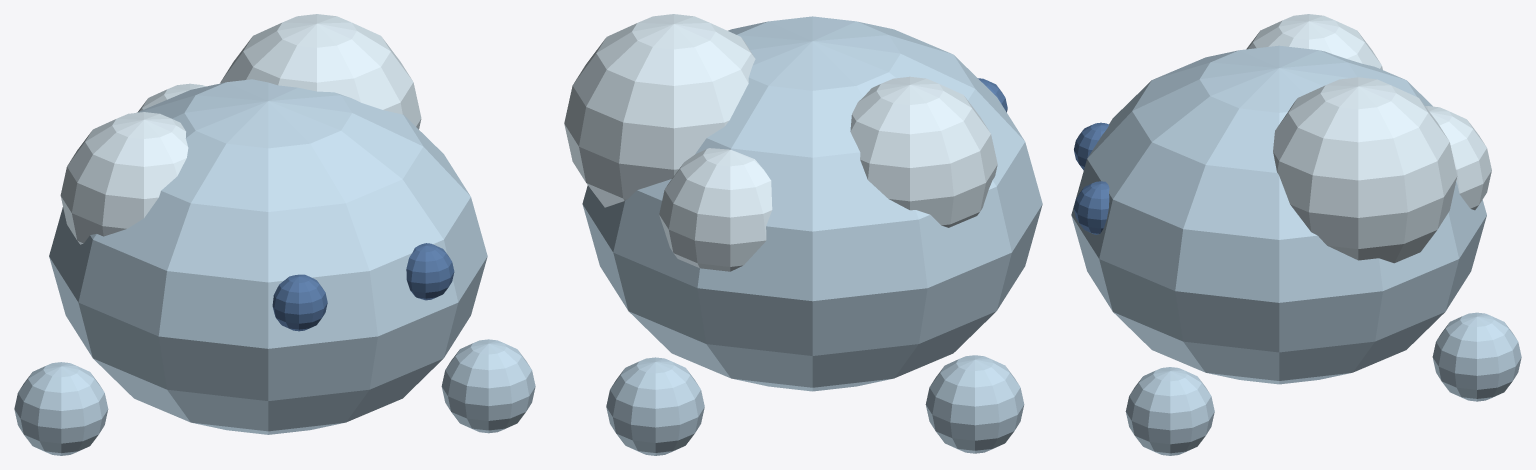
The model's file is creature_blob_ice.glb.
The picture shows the model from 3 angles, left to right: view 1: azimuth 30°, elevation 25°; view 2: azimuth 150°, elevation 25°; view 3: azimuth 270°, elevation 25°; orthographic projection. The views are drawn at different scales.
Parts seen in each view (by area): view 1: creature_blob_ice; view 2: creature_blob_ice; view 3: creature_blob_ice.
Boxes of the visible parts, bbox=[...] form: creature_blob_ice: bbox=[14, 14, 535, 455]; creature_blob_ice: bbox=[564, 14, 1042, 455]; creature_blob_ice: bbox=[1071, 14, 1521, 455].
Bounding box in the file's own units: 1.27 × 1 × 1.23.
